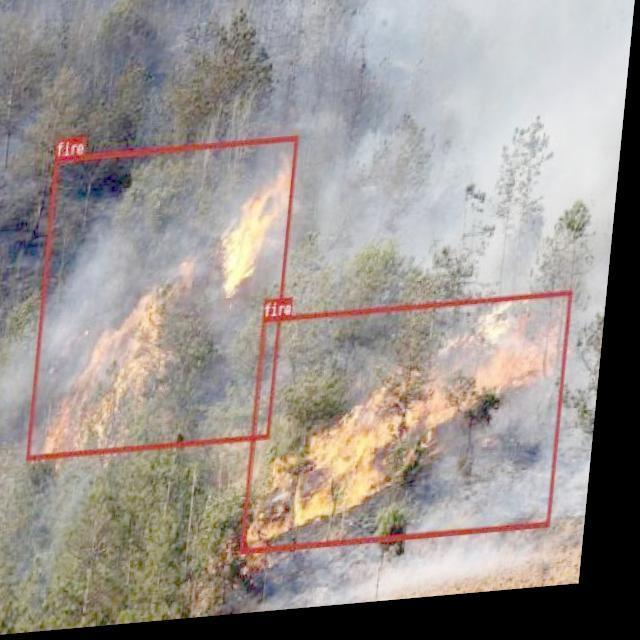Fire: (28, 182, 298, 478), (255, 316, 561, 550)
Smoke: (278, 0, 636, 601), (0, 128, 246, 464)
